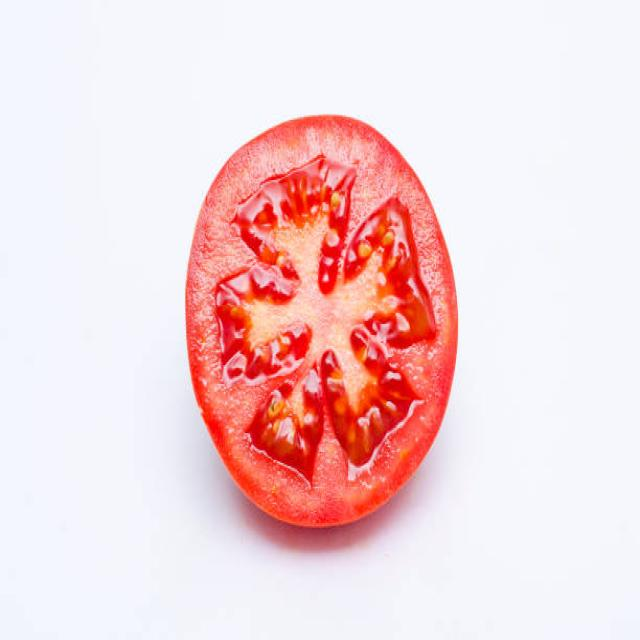Tomato: (171, 99, 465, 540)
